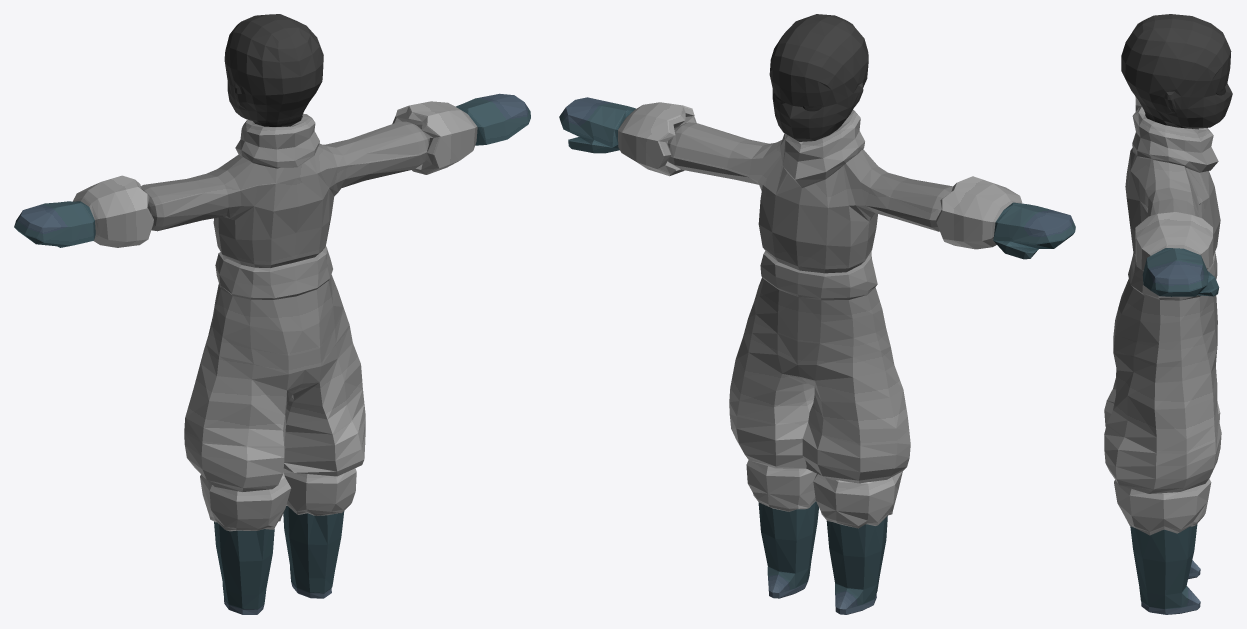
Rendered from CharSkyKid_Body_AP04CozyPants.glb.
3 renders of one model, left to right at view 1: azimuth 30°, elevation 25°; view 2: azimuth 150°, elevation 25°; view 3: azimuth 270°, elevation 25°, orthographic.
Parts seen in each view (by area): view 1: CharSkyKid_Body_AP04CozyPants; view 2: CharSkyKid_Body_AP04CozyPants; view 3: CharSkyKid_Body_AP04CozyPants.
Boxes of the visible parts, bbox=[...] form: CharSkyKid_Body_AP04CozyPants: bbox=[14, 14, 530, 614]; CharSkyKid_Body_AP04CozyPants: bbox=[559, 14, 1075, 614]; CharSkyKid_Body_AP04CozyPants: bbox=[1104, 14, 1232, 614].
Bounding box in the file's own units: 13.74 × 14.95 × 3.04.
1 material, 1 textured.
